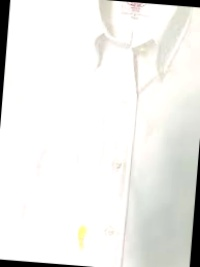mustard: (77, 221, 93, 247)
